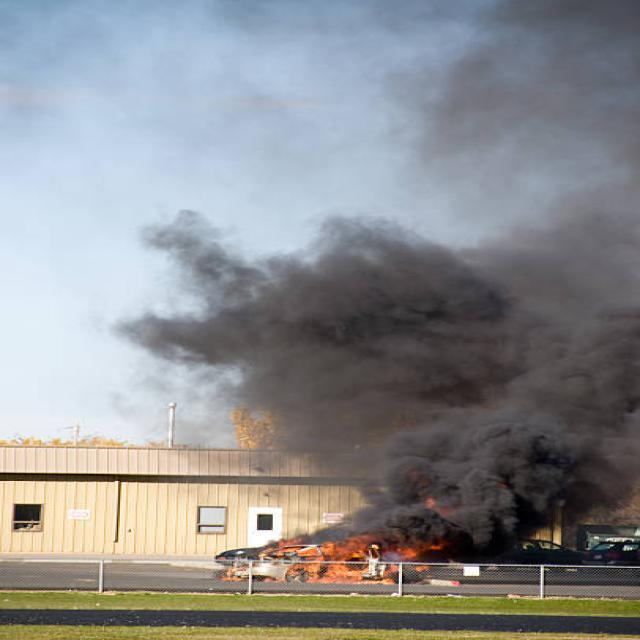Fire: (261, 516, 464, 616)
Smoke: (170, 222, 640, 486), (362, 9, 640, 331)
